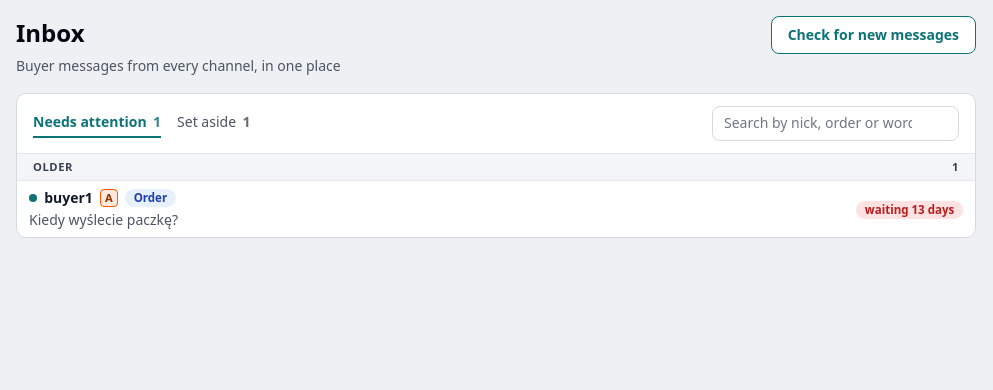
Test case: the inbox › opens a thread and shows its messages
The image size is (993, 390).
Click the button "buyer1 A Order Kiedy wyślecie paczkę? waiting 13 days". click: [69, 197]
box: [17, 180, 975, 237]
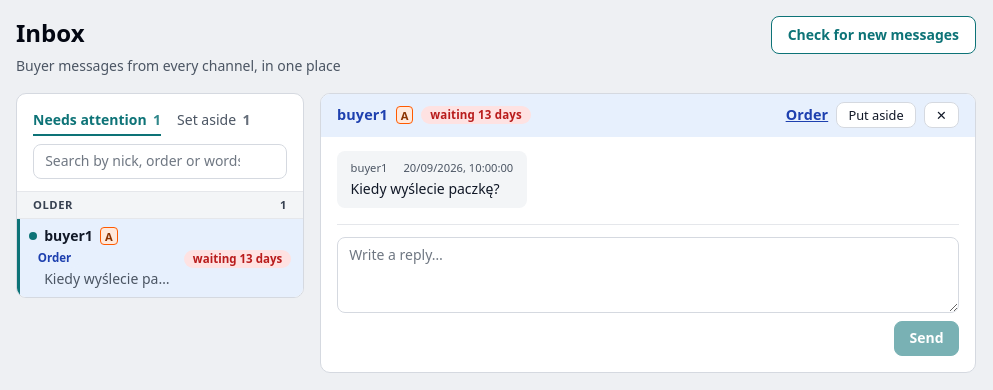
Expected: the button "Send" is disabled, [894, 321, 959, 356]
